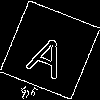A: (25, 25, 75, 81)
